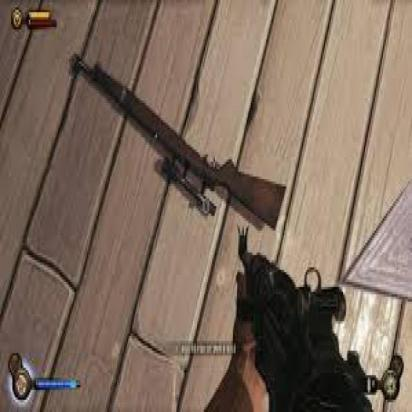Gun: (69, 45, 288, 229), (238, 222, 381, 412)
